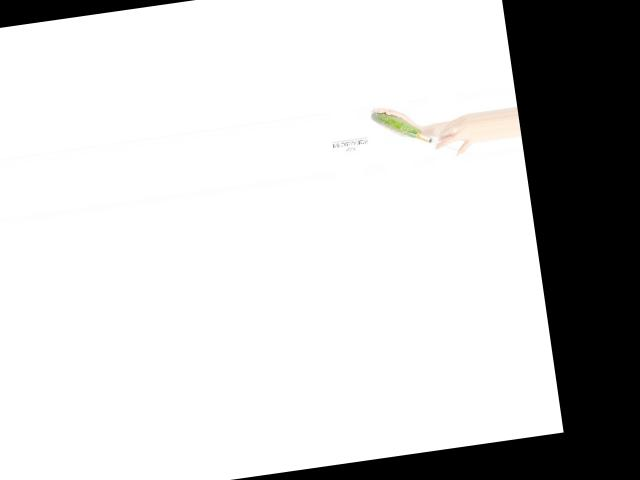cucumber: (371, 106, 422, 143)
